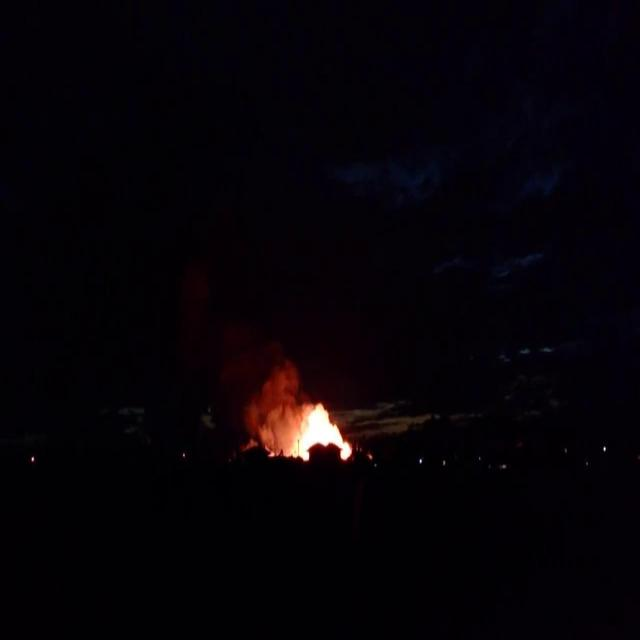Fire: (296, 402, 352, 466)
